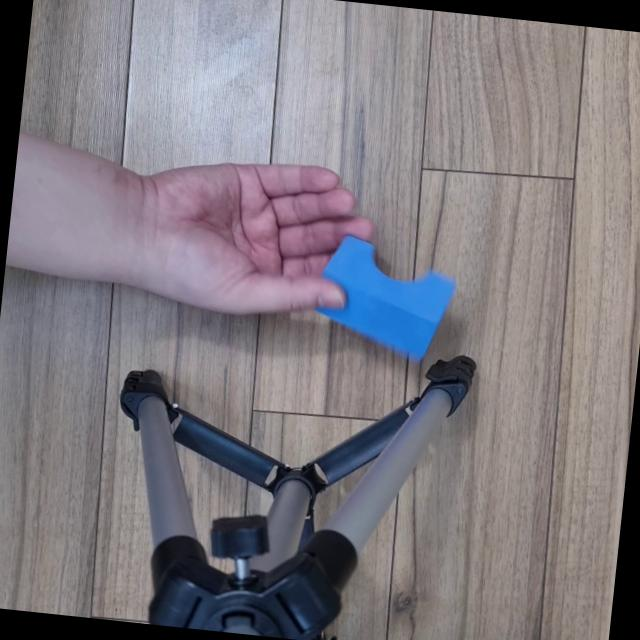block: (303, 232, 469, 368)
hand: (128, 136, 394, 367)
